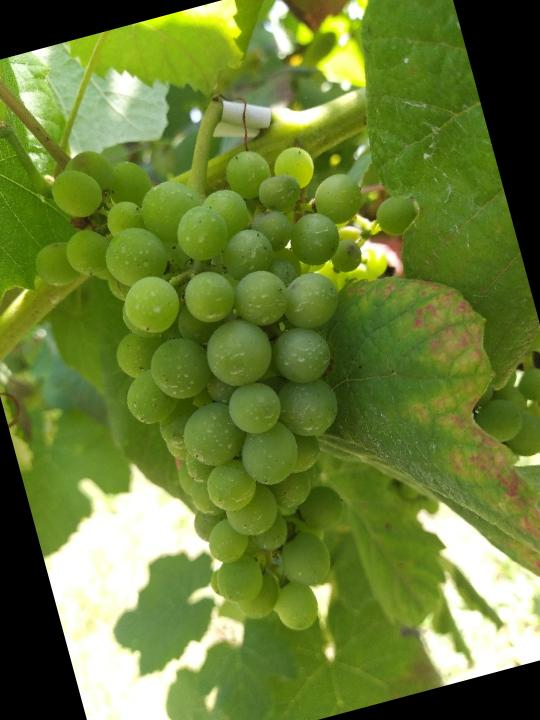grape: (5, 69, 518, 678)
